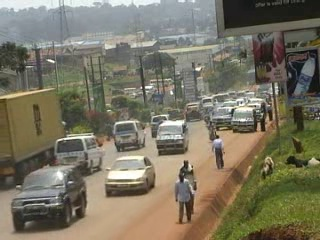Car: (10, 160, 88, 232), (104, 152, 156, 196), (147, 108, 174, 138), (164, 106, 185, 123)
Motorcycle: (205, 119, 222, 144), (201, 104, 211, 126)
